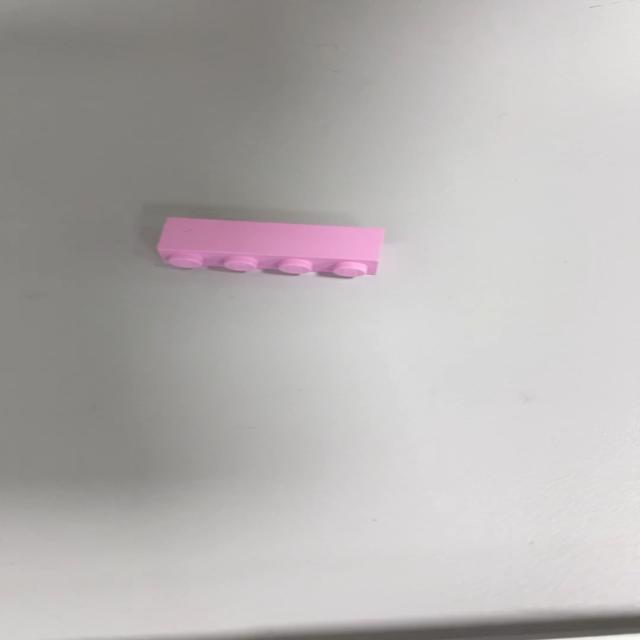C4x1x1: (154, 214, 386, 278)
